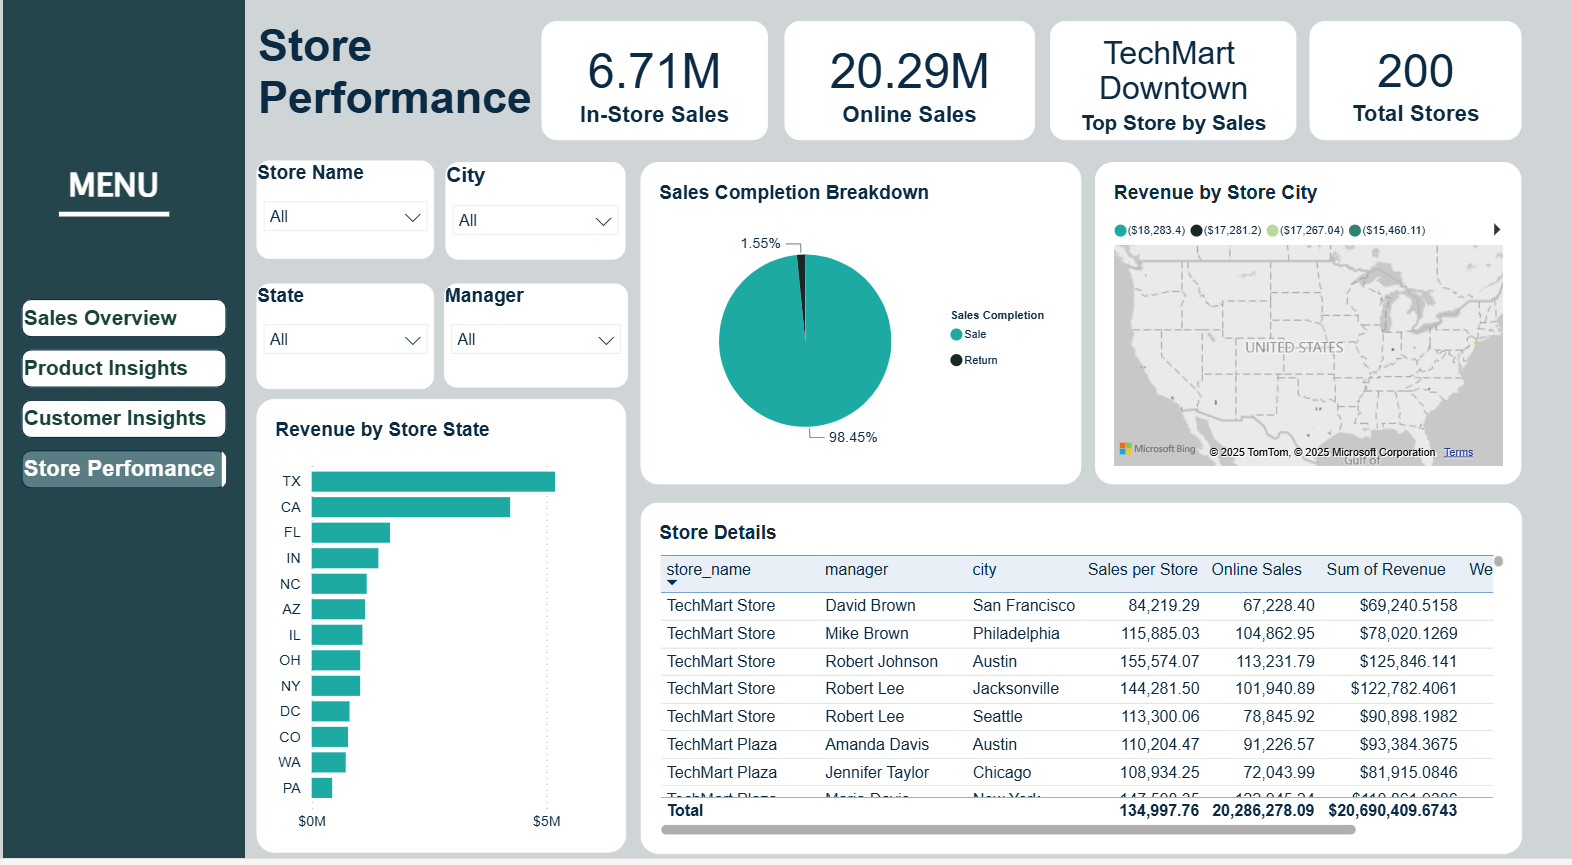

The dashboard page shown, as its layout file describes it:
{"tool":"powerbi","page":{"name":"Store Perfomance","canvas":[1280,720],"ordinal":3},"visuals":[{"type":"group","id":"g1","title":"Group 1","box":[0,0,201.3,719.1],"z":0},{"type":"textbox","box":[0,0,201.3,719.1],"z":0,"group":"g1"},{"type":"shape","box":[31.6,139.5,122.2,76.2],"z":1000},{"type":"filledMap","title":"Revenue by Store City","fields":{"Category":["Customer.city"],"Series":["Sales.Revenue"]},"box":[910.2,134.4,355.6,268.8],"z":2000},{"type":"barChart","title":"Revenue by Store State","fields":{"Category":["Store.state"],"Y":["Sales.Revenue"]},"box":[211.4,332.2,307.8,378.2],"z":3000},{"type":"tableEx","title":"Store Details","fields":{"Values":["Store.store_name","Store.manager","Store.city","Customer.Sales per Store","Customer.Online Sales","Sales.Revenue","Customer.Weekend Sales Revenue"]},"box":[530.8,418.5,735,292.6],"z":4000},{"type":"pieChart","title":"Sales Completion Breakdown","fields":{"Category":["Sales.Sales Completion"],"Y":["Sales.sale_id"]},"box":[530.8,134.4,367.5,268.8],"z":5000},{"type":"card","fields":{"Values":["Customer.Total Stores"]},"box":[1088.7,17.3,176.9,99.2],"z":6000},{"type":"card","fields":{"Values":["Customer.Top Store by Sales"]},"box":[872.9,17.3,205.7,99.2],"z":7000},{"type":"card","fields":{"Values":["Customer.Online Sales"]},"box":[651.5,17.3,208.5,99.2],"z":8000},{"type":"card","fields":{"Values":["Customer.In-Store Sales"]},"box":[448.7,17.3,188.4,99.2],"z":9000},{"type":"slicer","title":"Store Name","fields":{"Values":["Store.store_name"]},"box":[211.4,133.7,148.1,82],"z":10000},{"type":"slicer","title":"City","fields":{"Values":["Store.city"]},"box":[369.2,134.4,149.7,81.7],"z":11000},{"type":"pageNavigator","box":[0,233.4,201.3,188.8],"z":11000,"group":"g1"},{"type":"textbox","box":[18.7,133.6,146.7,55.2],"z":12000,"group":"g1"},{"type":"slicer","title":"Manager","fields":{"Values":["Store.manager"]},"box":[367.5,236.5,153.1,86.8],"z":12000},{"type":"slicer","title":"State","fields":{"Values":["Store.state"]},"box":[211.4,235.9,148.1,87.7],"z":13000},{"type":"textbox","box":[212.2,16.6,233,99.8],"z":14000}]}

Visuals, with their boxes in screenshot pixels (x1, y1, x2, y2), scaled from the page's 1280x720 canvas onto the 1572x865 screenshot:
"Group 1" group: 0 0 247 864
textbox: 0 0 247 864
shape: 39 168 189 259
"Revenue by Store City" filledMap: 1118 161 1555 484
"Revenue by Store State" barChart: 260 399 638 853
"Store Details" tableEx: 652 503 1555 854
"Sales Completion Breakdown" pieChart: 652 161 1103 484
card - Customer.Total Stores: 1337 21 1554 140
card - Customer.Top Store by Sales: 1072 21 1325 140
card - Customer.Online Sales: 800 21 1056 140
card - Customer.In-Store Sales: 551 21 782 140
"Store Name" slicer: 260 161 442 259
"City" slicer: 453 161 637 260
pageNavigator: 0 280 247 507
textbox: 23 161 203 227
"Manager" slicer: 451 284 639 388
"State" slicer: 260 283 442 389
textbox: 261 20 547 140
